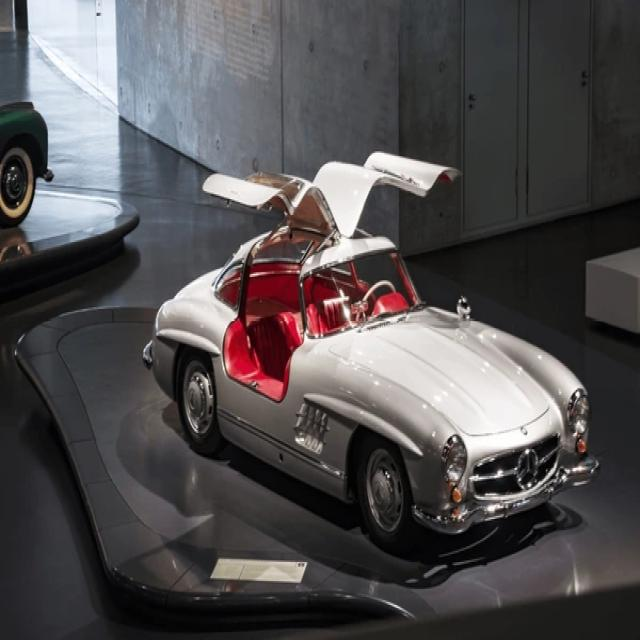mercedes: (514, 444, 543, 494)
